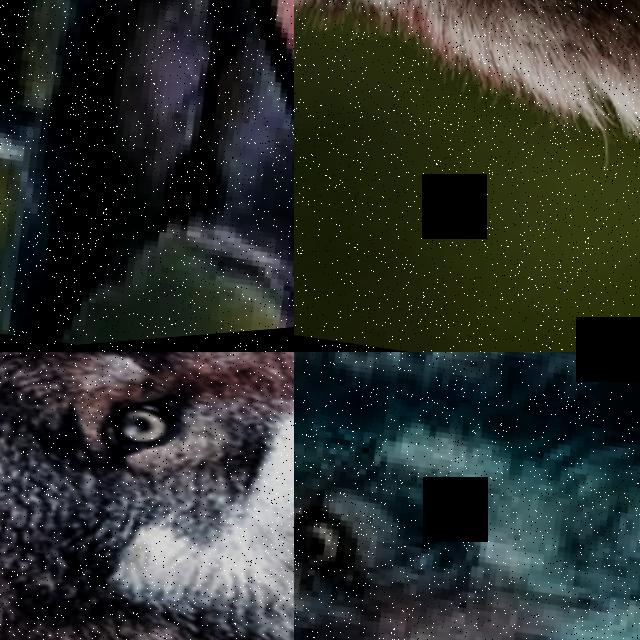dog: (0, 0, 294, 352)
wolf: (294, 352, 640, 640), (294, 0, 640, 261), (0, 352, 294, 640)
